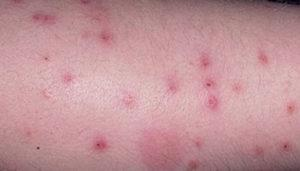Fleas: (30, 11, 63, 32), (202, 93, 222, 112), (254, 50, 271, 67), (201, 77, 217, 92), (197, 55, 213, 69), (165, 78, 178, 94), (92, 137, 108, 150), (94, 33, 114, 43), (122, 94, 135, 108), (186, 159, 198, 170), (252, 145, 263, 157), (62, 75, 74, 85), (279, 141, 291, 151), (192, 141, 201, 148)
